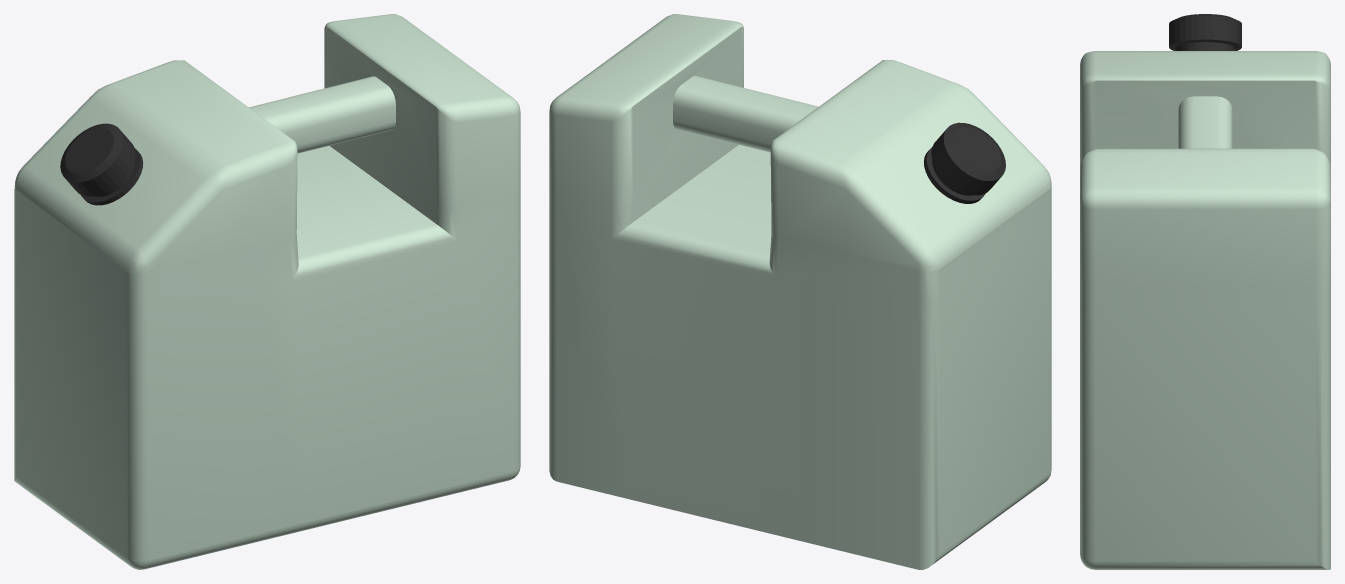
Rendered from Mulnch.fbx.
3 renders of one model, left to right at view 1: azimuth 30°, elevation 25°; view 2: azimuth 150°, elevation 25°; view 3: azimuth 270°, elevation 25°, orthographic.
Parts seen in each view (by area): view 1: Cube.241; view 2: Cube.241; view 3: Cube.241.
Boxes of the visible parts, x1,y1,x2,y2 form: Cube.241: (14, 14, 520, 569); Cube.241: (549, 14, 1051, 569); Cube.241: (1080, 14, 1330, 569).
Size of the model in its own units: 43.43 by 41.14 by 23.92.
